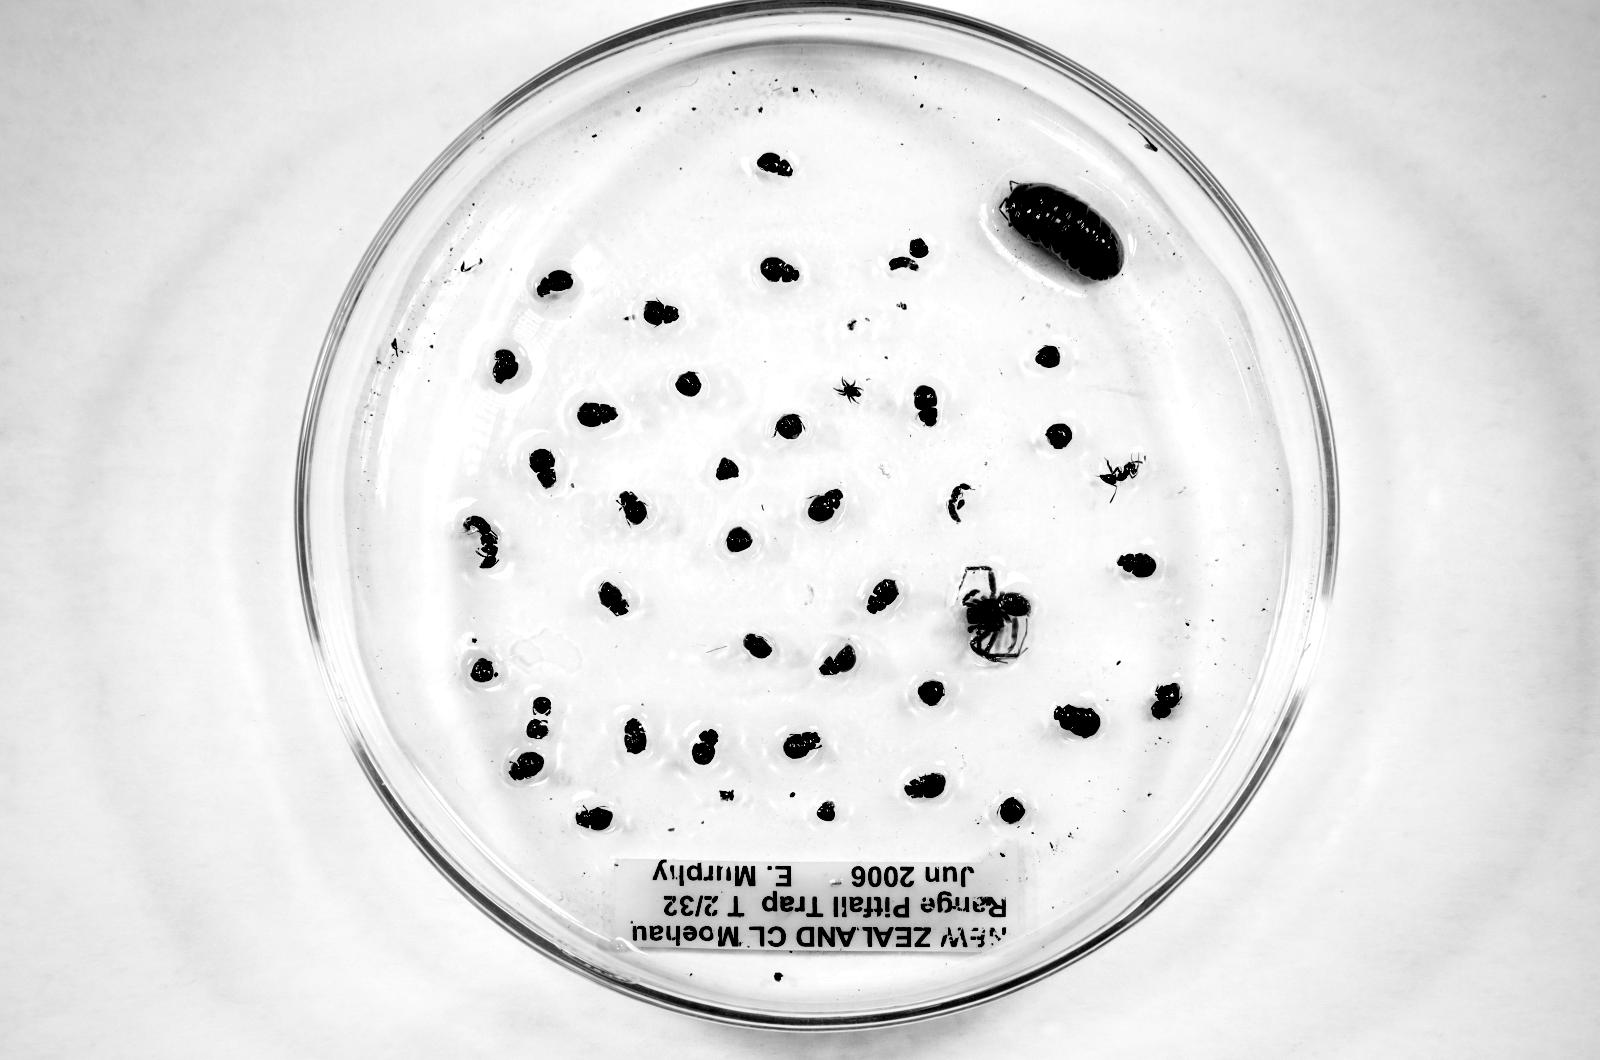acari: (836, 380, 862, 402)
araneae: (959, 565, 1031, 662)
coleoptera: (1054, 705, 1100, 738), (819, 643, 856, 675), (808, 489, 843, 522), (597, 581, 630, 616), (529, 448, 557, 489), (904, 772, 946, 799), (867, 579, 899, 614), (536, 270, 575, 297), (913, 385, 938, 427), (1152, 683, 1181, 719), (577, 402, 618, 427), (618, 491, 648, 525), (784, 732, 821, 759), (509, 752, 544, 780), (761, 257, 800, 282), (692, 729, 719, 765), (1117, 553, 1157, 577), (643, 300, 679, 326), (575, 807, 613, 831), (756, 152, 793, 176), (493, 349, 519, 383), (623, 718, 647, 754), (743, 633, 772, 659)
formicidae: (462, 515, 499, 569), (1099, 453, 1145, 489), (947, 483, 971, 523)
isopoda: (1001, 183, 1124, 281)
